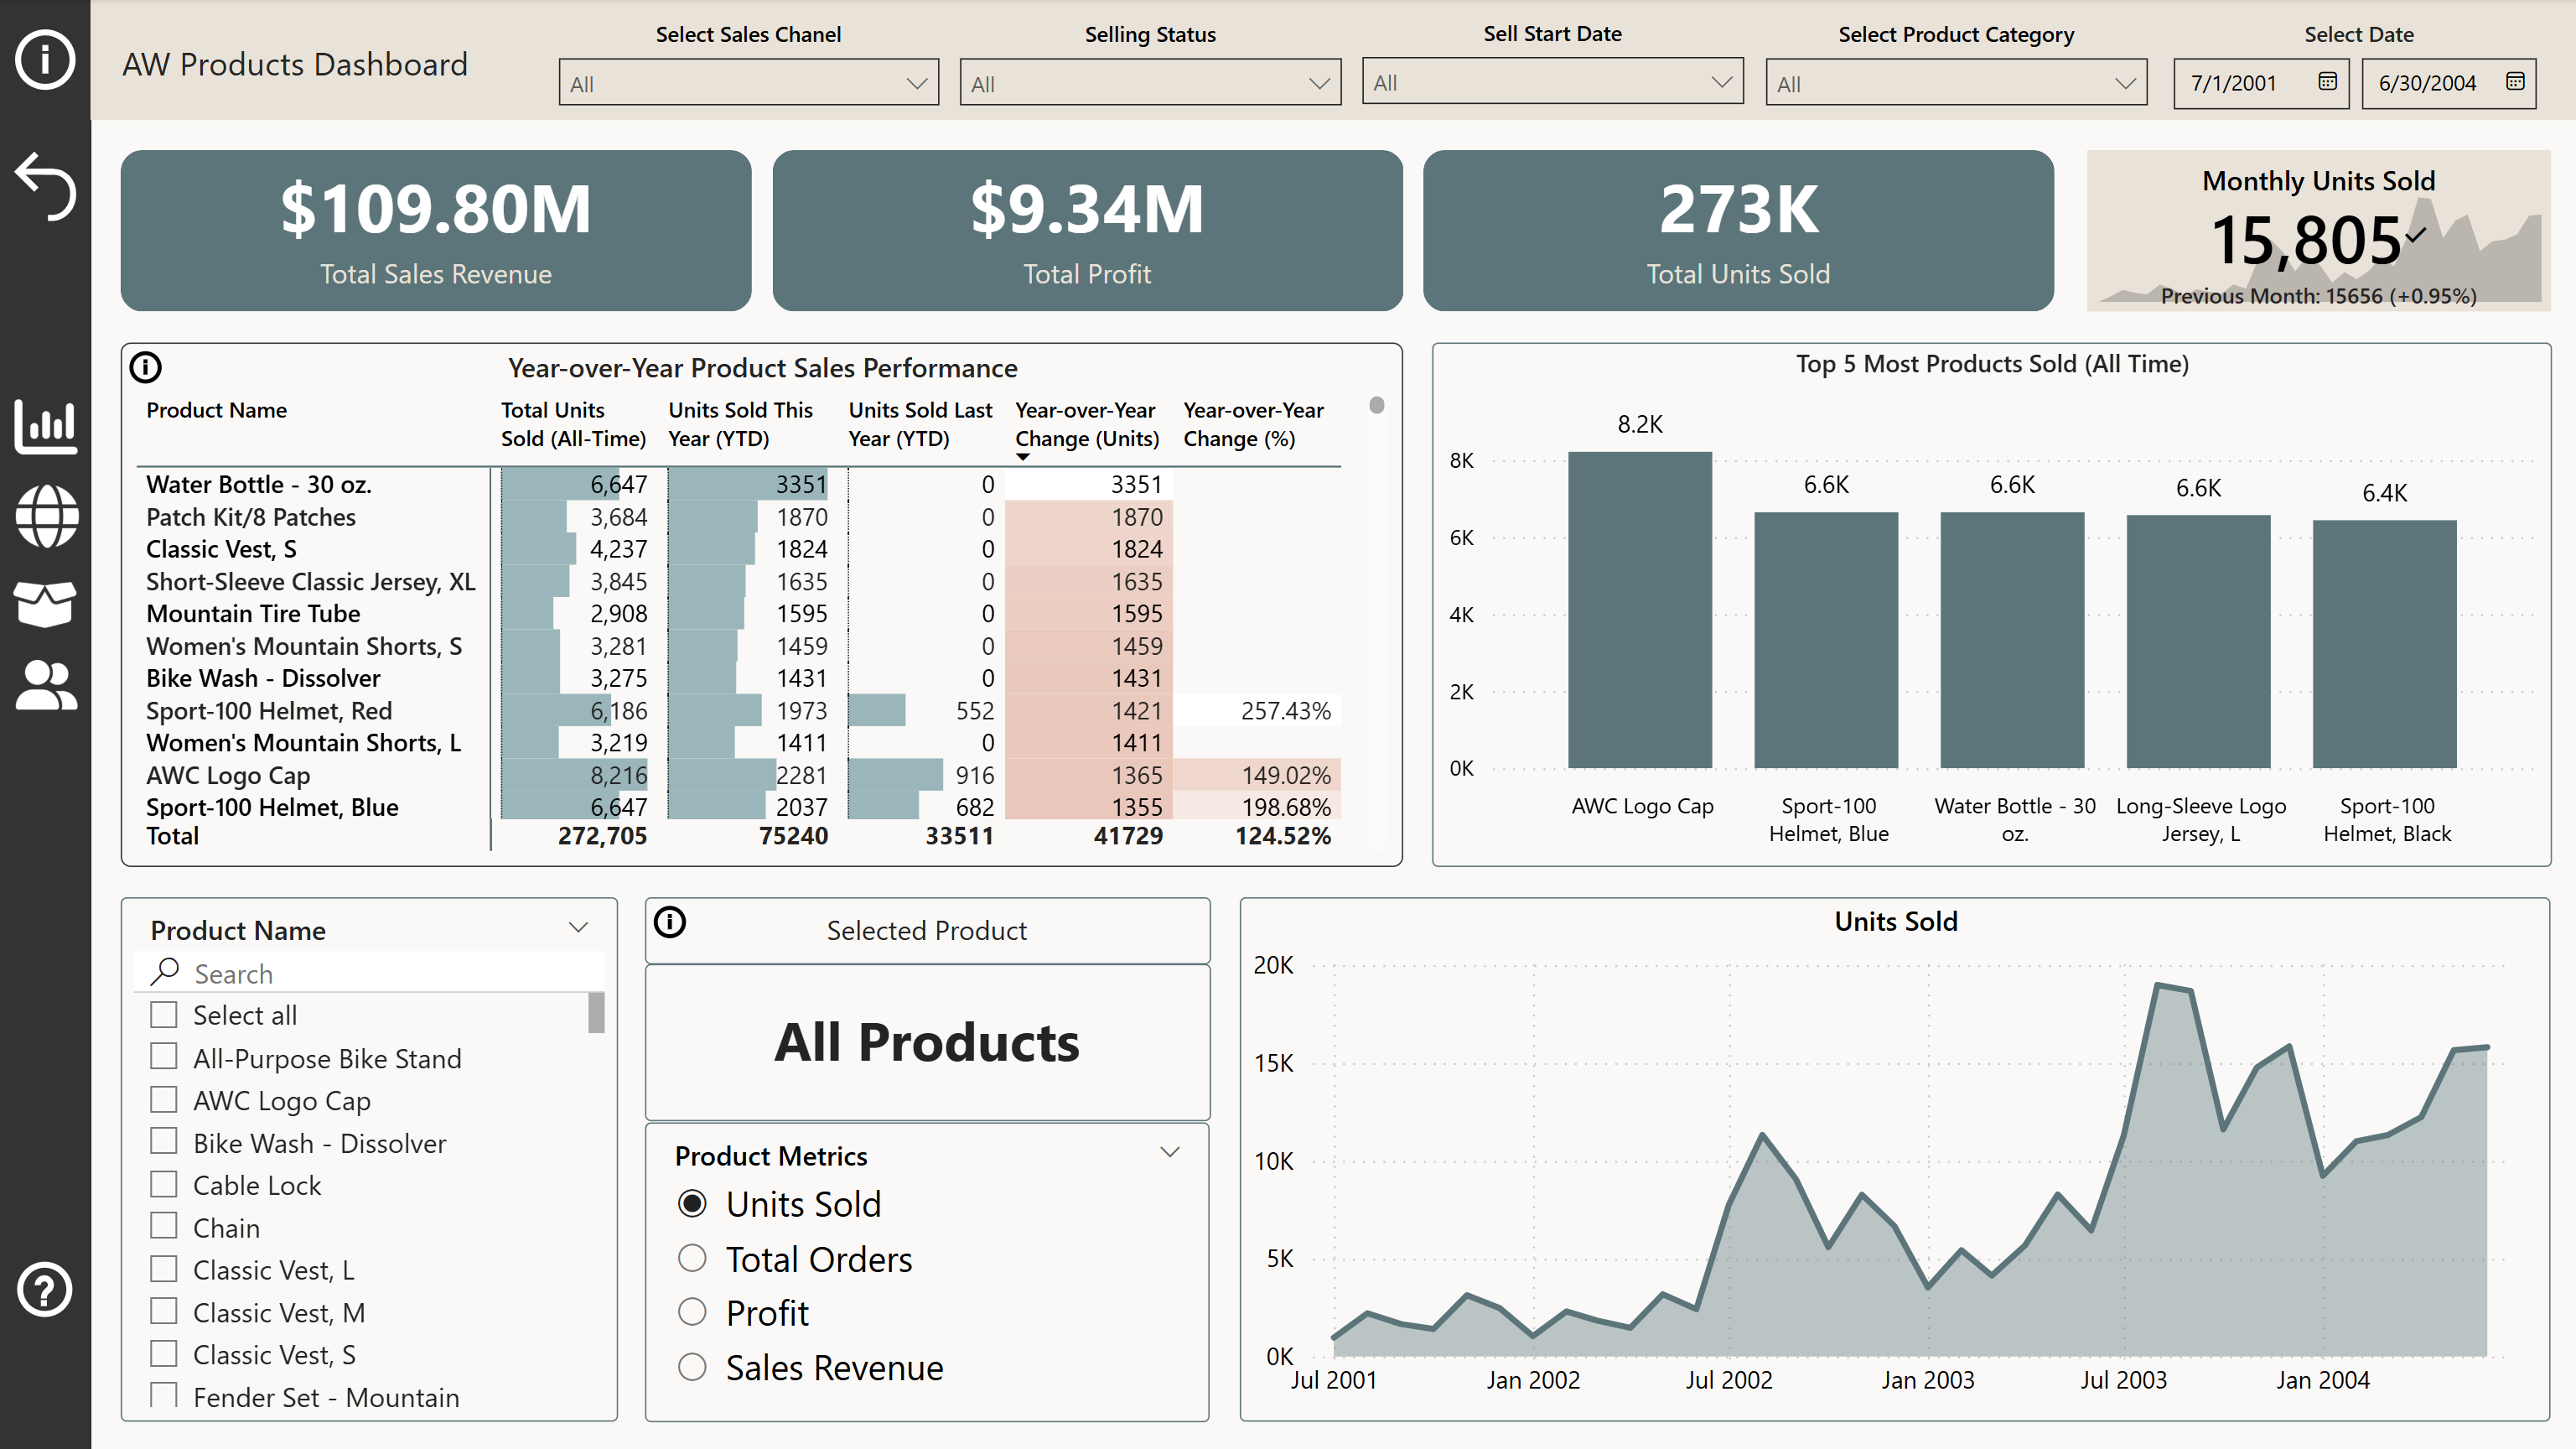

The dashboard page shown, as its layout file describes it:
{"tool":"powerbi","page":{"name":"Product Insights","canvas":[1280,720],"ordinal":3},"visuals":[{"type":"pivotTable","title":"Year-over-Year Product Sales Performance","fields":{"Rows":["product.ProductName"],"Values":["Measures Table.Total Units Sold","Measures Table.Total Units Sold YTD","Measures Table.Total Units Sold PY YTD","Measures Table.Change in Units Sold in 1 Year","Measures Table.% Change in Units Sold"]},"box":[60,170,635.8,260],"z":0},{"type":"textbox","title":"Selected Product Title (TextBox)","box":[320,445,280.5,33],"z":1000},{"type":"card","title":"Selected Product Card","fields":{"Values":["Measures Table.Selected Product Label"]},"box":[320,478,280.5,78],"z":2000},{"type":"stackedAreaChart","fields":{"Y":["Measures Table.Total Units Sold"],"Category":["CalendarLookup.Year Hierarchy.Year","CalendarLookup.Year Hierarchy.Start of Month","CalendarLookup.Year Hierarchy.Start of Week","CalendarLookup.Year Hierarchy.Date"]},"box":[615,445,650,260],"z":3000},{"type":"shape","title":"Navigation Bar","box":[0,0,45.6,720],"z":4000},{"type":"slicer","title":"Selling Status Slicer","fields":{"Values":["product.ProductName"]},"box":[60,445,246.7,260],"z":5000},{"type":"slicer","title":"Field Parameter Slicer","fields":{"Values":["Product Metric Selections.Product Metric Selections"]},"box":[320,556.7,280,148.3],"z":6000},{"type":"shape","title":"Top Bar","box":[45,0,1235,60],"z":7000},{"type":"textbox","title":"AW Executives Dashboard","box":[55.2,15,205.8,35],"z":8000},{"type":"slicer","title":"Select Date","fields":{"Values":["CalendarLookup.Date"]},"box":[1069.9,10,200.1,50.2],"z":9000},{"type":"slicer","title":"Select Product Category","fields":{"Values":["productcategory.ProductCategoryName"]},"box":[870.2,9.8,199.6,50.6],"z":10000},{"type":"slicer","title":"Sell Start Date","fields":{"Values":["product.For SellStartslicers"]},"box":[670.6,9.1,199.6,50.6],"z":11000},{"type":"slicer","title":"Selling Status","fields":{"Values":["product.Selling Status"]},"box":[471,9.8,199.6,50.6],"z":12000},{"type":"cardVisual","fields":{"Data":["Measures Table.Total Sales Revenue","Measures Table.Total Profit","Measures Table.Total Units Sold"]},"box":[60,75,960,80],"z":13000},{"type":"kpi","title":"Monthly Units Sold","fields":{"TrendLine":["CalendarLookup.Year Hierarchy.Start of Month"],"Indicator":["Measures Table.Total Units Sold"],"Goal":["Measures Table.Previous Month Units Sold"]},"box":[1035,75,230,80],"z":14000},{"type":"clusteredColumnChart","title":"Top 5 Most Products Sold (All Time)","fields":{"Category":["product.ProductName"],"Y":["Measures Table.Total Units Sold"]},"box":[710,170,555,260],"z":15000},{"type":"slicer","title":"Select Sales Chanel","fields":{"Values":["salesorderheader.Sale type(Onlinve v Offline)"]},"box":[272,9.8,198.9,50.6],"z":16000},{"type":"actionButton","box":[2.5,10,40,40],"z":17000},{"type":"actionButton","box":[60,170,25.4,24.6],"z":18000},{"type":"actionButton","box":[320,445.4,25.4,24.6],"z":19000},{"type":"actionButton","box":[0,67.7,45.4,50],"z":20000},{"type":"actionButton","box":[4,620,36.9,40],"z":21000},{"type":"image","box":[2.3,231.5,41.5,50],"z":22000},{"type":"image","box":[2,186.9,41.5,50],"z":23000},{"type":"image","box":[1.5,275,41.5,50],"z":24000},{"type":"image","box":[2.3,315,40.8,50],"z":25000}]}

Visuals, with their boxes on the page's 1280x720 design canvas (x1, y1, x2, y2). These are canvas units, not pixel positions in the 2576x1449 screenshot, which may show the page scaled, cropped or inside an application window:
"Year-over-Year Product Sales Performance" pivotTable: crop(60, 170, 696, 430)
"Selected Product Title (TextBox)" textbox: crop(320, 445, 600, 478)
"Selected Product Card" card: crop(320, 478, 600, 556)
stackedAreaChart - Measures Table.Total Units Sold x CalendarLookup.Year Hierarchy.Year: crop(615, 445, 1265, 705)
"Navigation Bar" shape: crop(0, 0, 46, 720)
"Selling Status Slicer" slicer: crop(60, 445, 307, 705)
"Field Parameter Slicer" slicer: crop(320, 557, 600, 705)
"Top Bar" shape: crop(45, 0, 1280, 60)
"AW Executives Dashboard" textbox: crop(55, 15, 261, 50)
"Select Date" slicer: crop(1070, 10, 1270, 60)
"Select Product Category" slicer: crop(870, 10, 1070, 60)
"Sell Start Date" slicer: crop(671, 9, 870, 60)
"Selling Status" slicer: crop(471, 10, 671, 60)
cardVisual - Measures Table.Total Sales Revenue x Measures Table.Total Profit: crop(60, 75, 1020, 155)
"Monthly Units Sold" kpi: crop(1035, 75, 1265, 155)
"Top 5 Most Products Sold (All Time)" clusteredColumnChart: crop(710, 170, 1265, 430)
"Select Sales Chanel" slicer: crop(272, 10, 471, 60)
actionButton: crop(2, 10, 42, 50)
actionButton: crop(60, 170, 85, 195)
actionButton: crop(320, 445, 345, 470)
actionButton: crop(0, 68, 45, 118)
actionButton: crop(4, 620, 41, 660)
image: crop(2, 232, 44, 282)
image: crop(2, 187, 44, 237)
image: crop(2, 275, 43, 325)
image: crop(2, 315, 43, 365)
